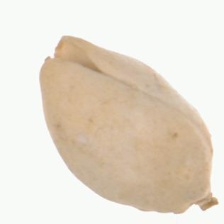L1: (39, 34, 97, 73), (184, 179, 219, 210)
L2: (39, 35, 219, 213)
